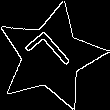L_SE: (22, 27, 80, 86)
